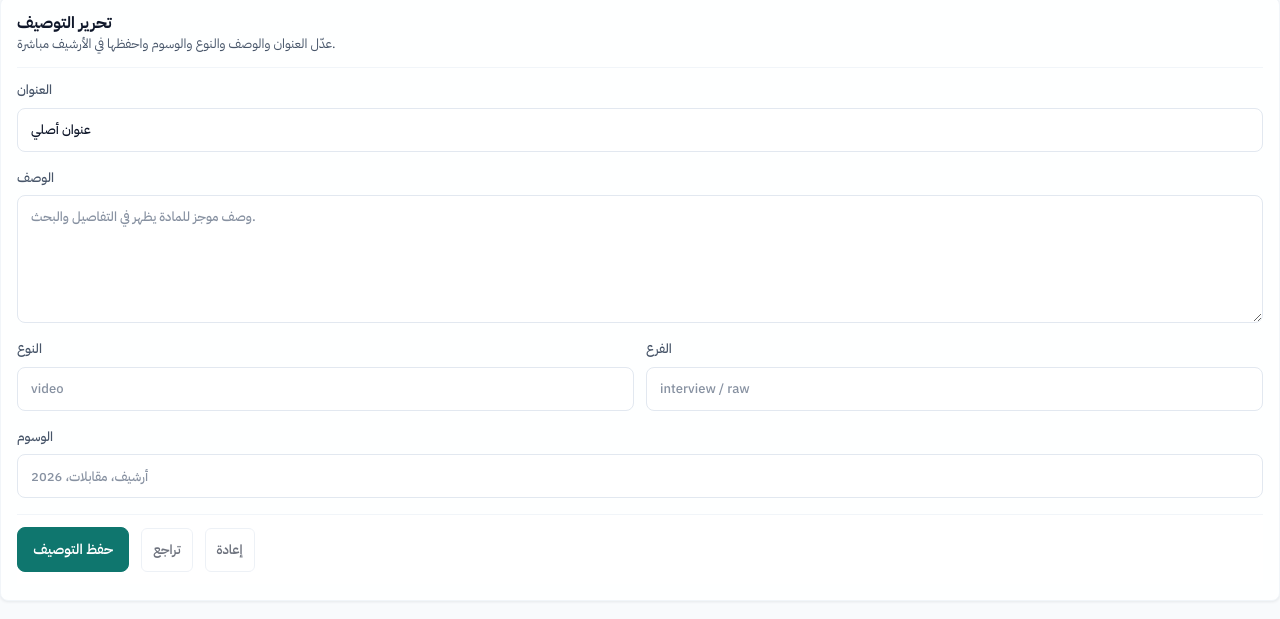
Test: RecordDescribeForm undo/redo (V1-732C) › multiple checkpoints undo in reverse order
Replace the text in the field labelled "العنوان" with "تعديل ١" at (640, 130), box [17,108,1263,152]
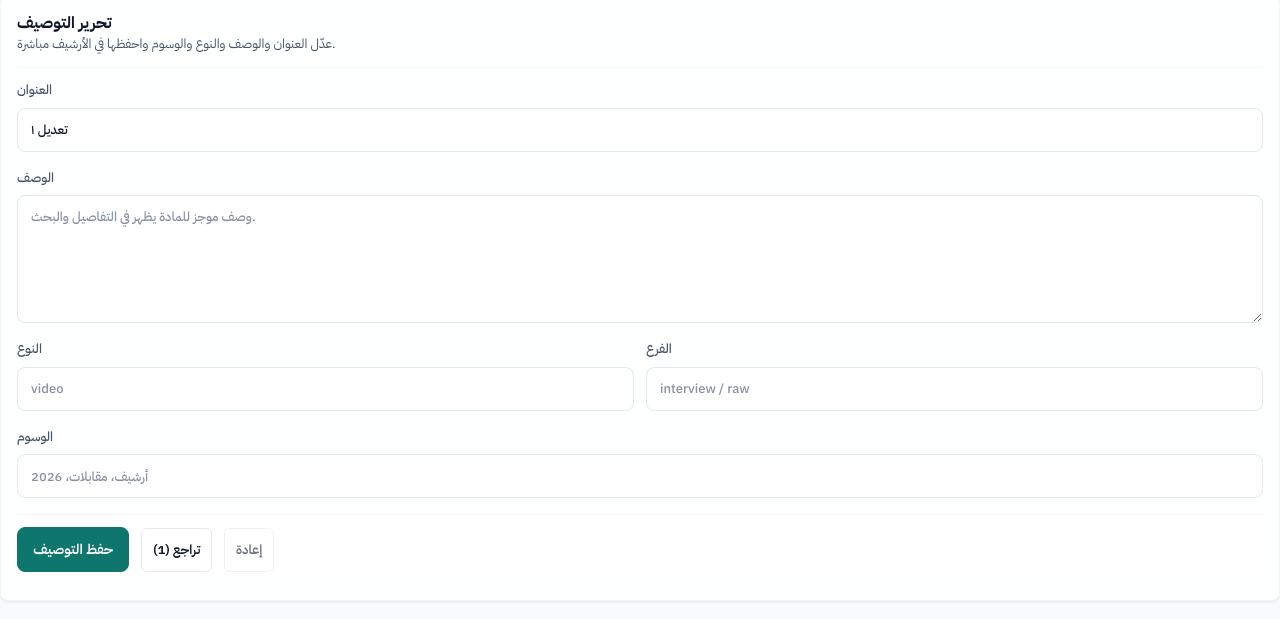
Replace the text in the field labelled "العنوان" with "تعديل ٢" at (640, 130), box [17,108,1263,152]
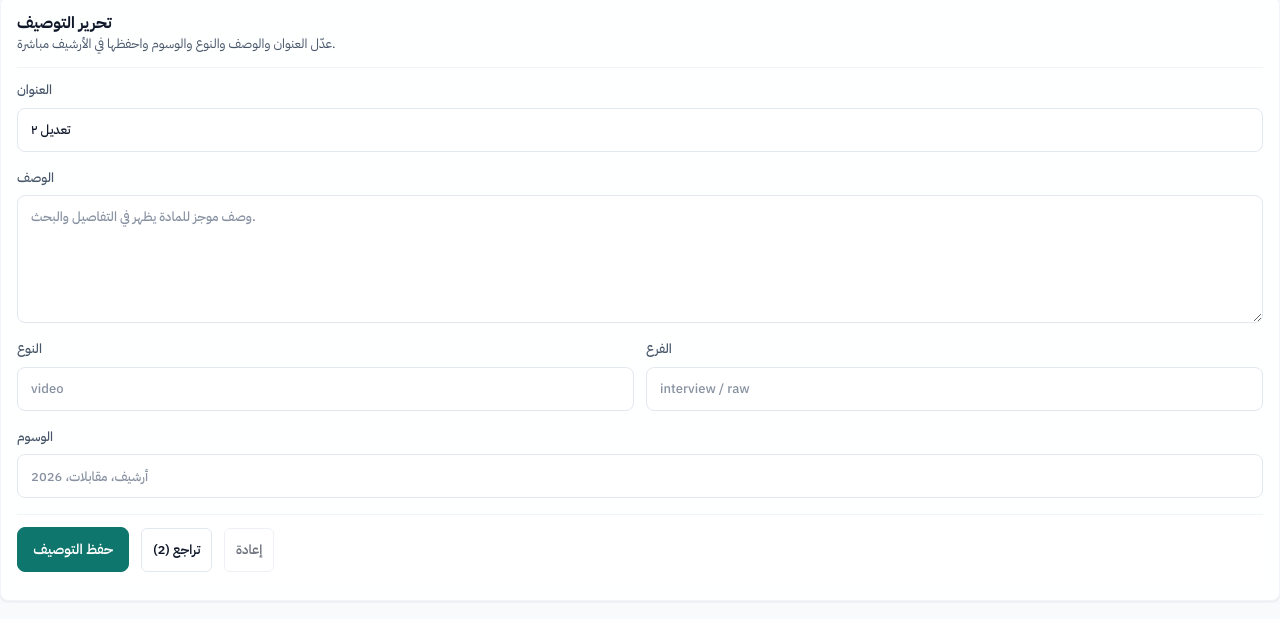
Click the button "تراجع (2)" at (177, 550), box [141,528,212,572]
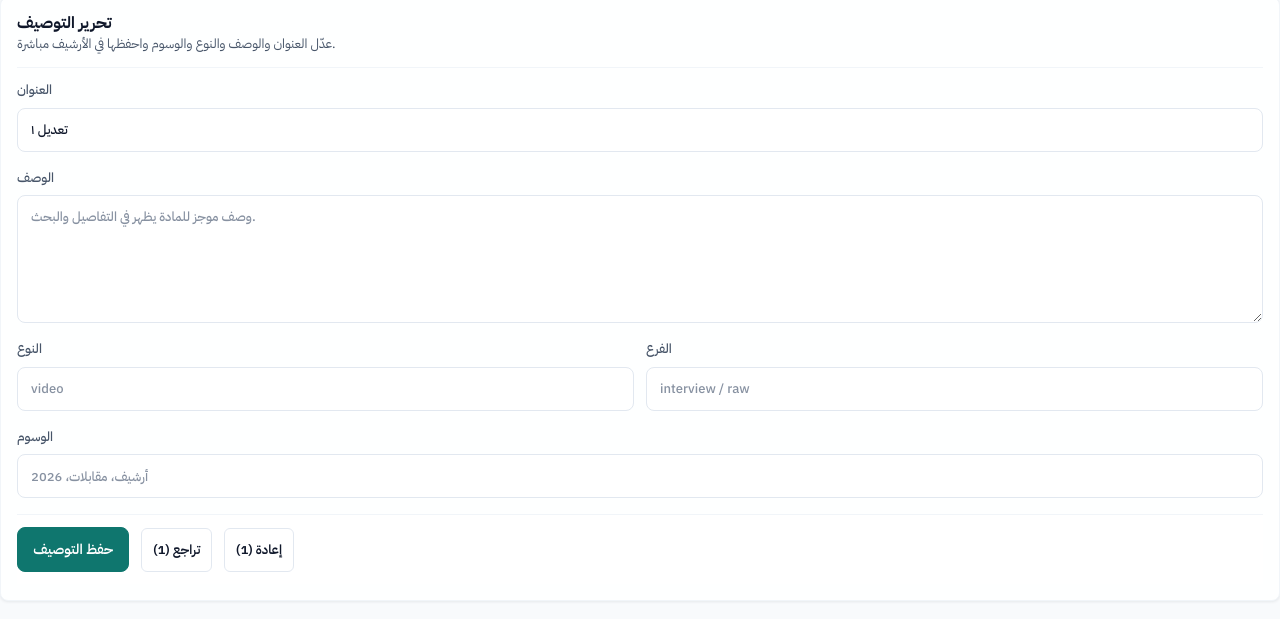
Click the button "تراجع (1)" at (177, 550), box [141,528,212,572]
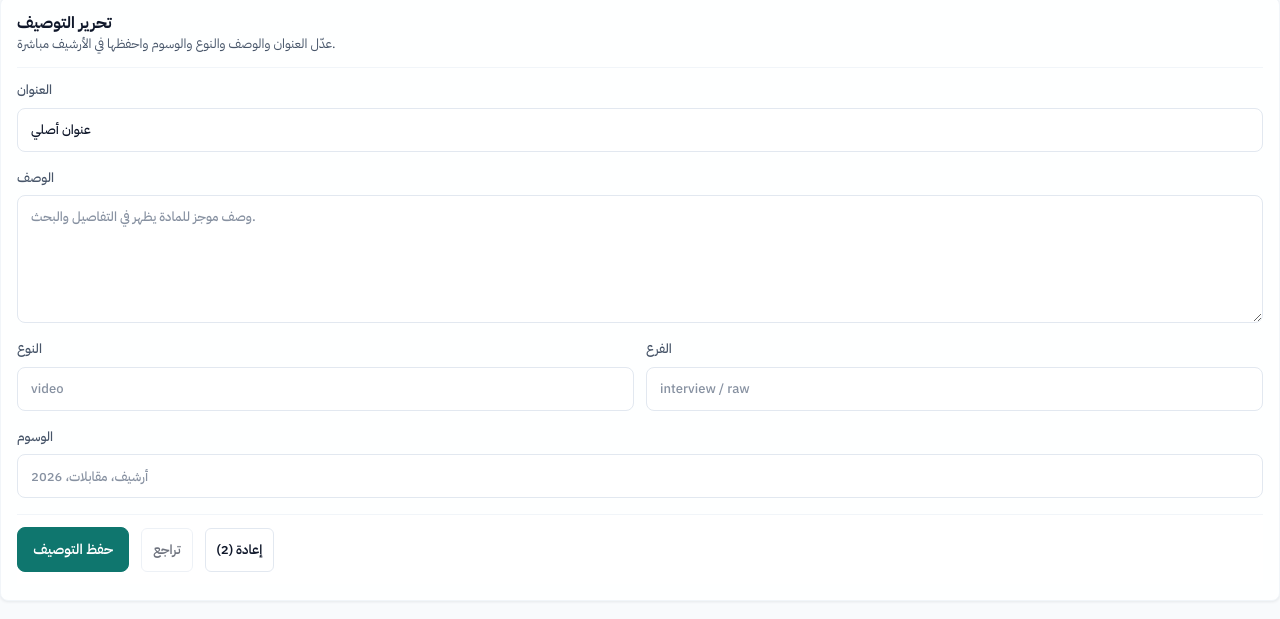
expect the field labelled "العنوان" holds "عنوان أصلي": met, box [17,108,1263,152]
expect the button "تراجع" is disabled: met, box [141,528,193,572]
